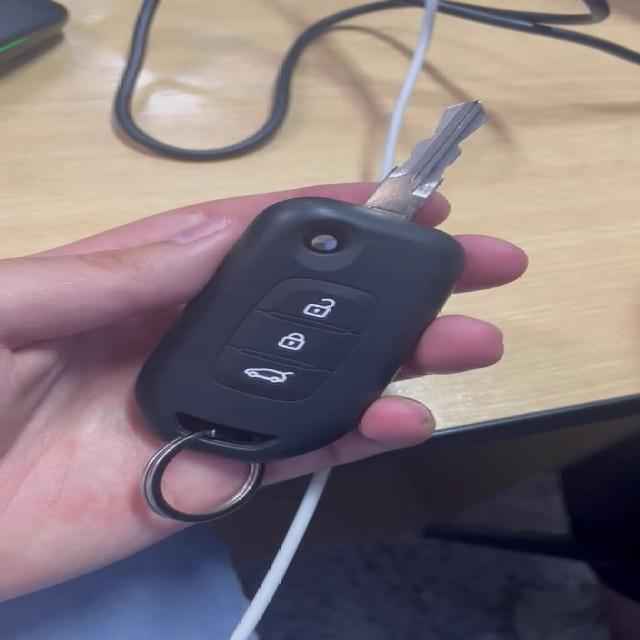llave-auto: (24, 51, 606, 553)
